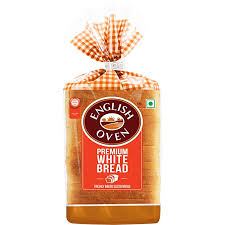bread: (60, 9, 172, 225)
